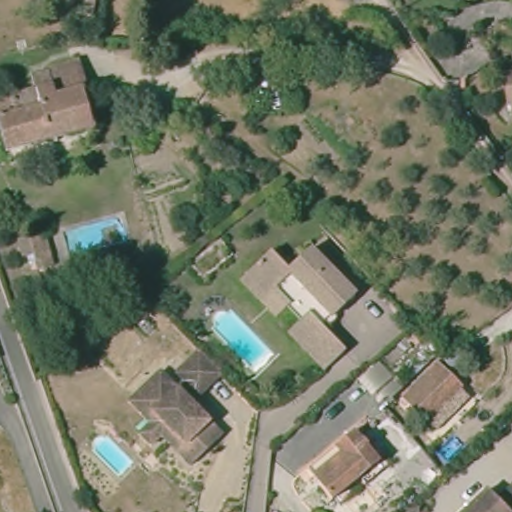pool: (203, 305, 279, 379), (58, 211, 130, 260), (83, 430, 136, 477), (430, 433, 465, 469)
